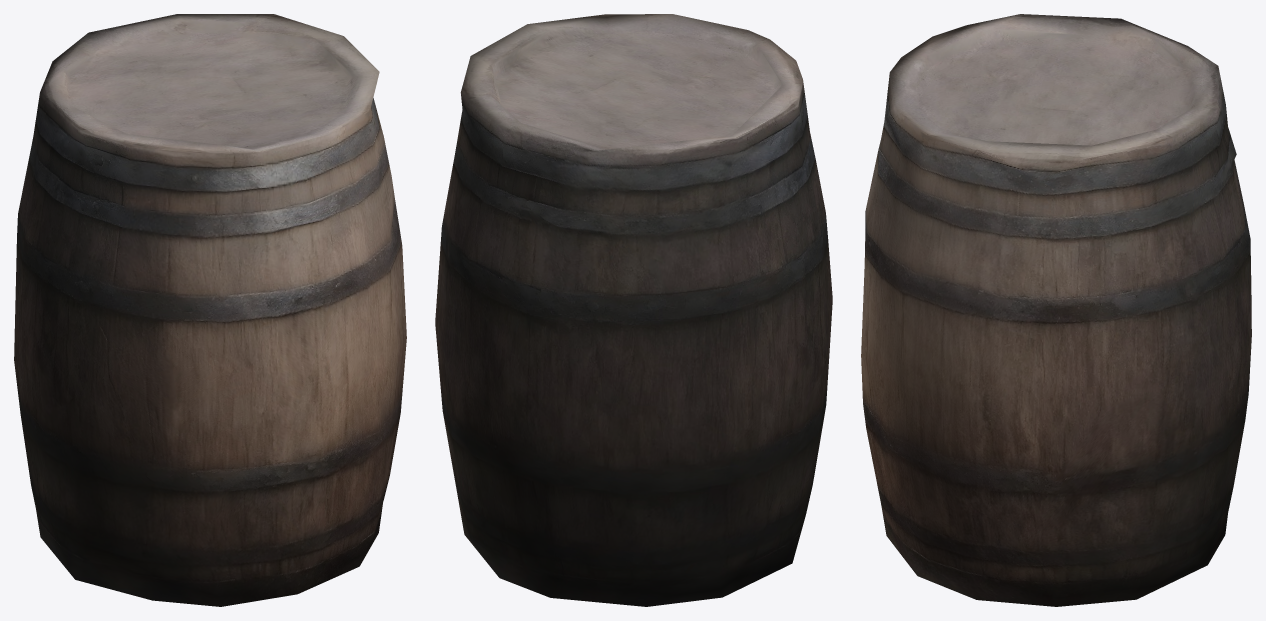
File: tonneau_low.glb
3 renders of one model, left to right at view 1: azimuth 30°, elevation 25°; view 2: azimuth 150°, elevation 25°; view 3: azimuth 270°, elevation 25°, orthographic.
Visible parts, largest first — view 1: tripo_node_a7d714b6-a75c-4234-b3c1-08f92caf9b6b; view 2: tripo_node_a7d714b6-a75c-4234-b3c1-08f92caf9b6b; view 3: tripo_node_a7d714b6-a75c-4234-b3c1-08f92caf9b6b.
Part boxes in pixels (box(x1,y1,x2,y2)): tripo_node_a7d714b6-a75c-4234-b3c1-08f92caf9b6b: box(14, 14, 406, 606); tripo_node_a7d714b6-a75c-4234-b3c1-08f92caf9b6b: box(435, 14, 832, 606); tripo_node_a7d714b6-a75c-4234-b3c1-08f92caf9b6b: box(861, 14, 1251, 606).
Size of the model in its own units: 0.7625 by 0.9806 by 0.7671.
Materials: 1 (1 with a texture image).
